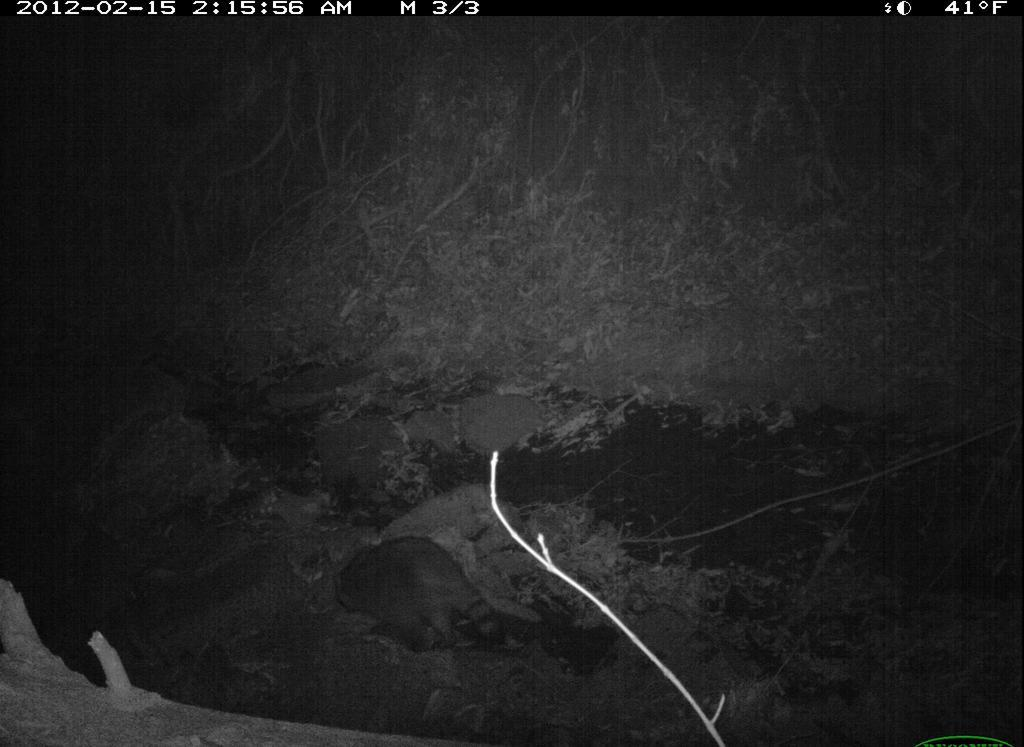raccoon: (324, 529, 515, 674)
